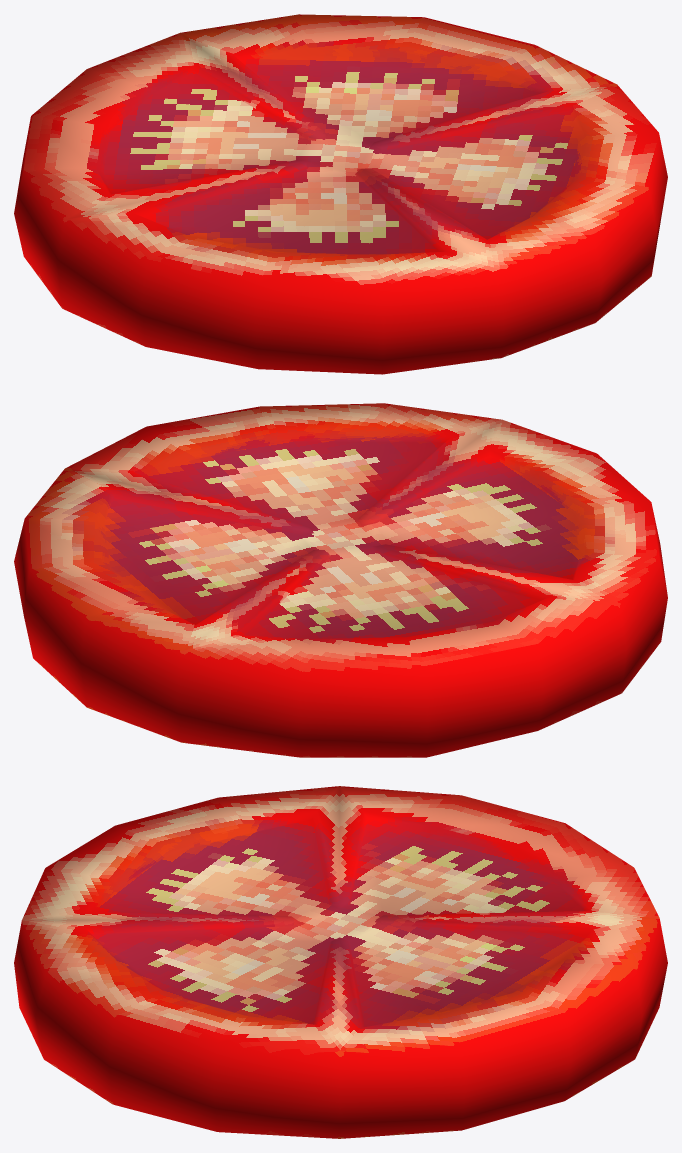
The model's file is Topz-tomato.glb.
The picture shows the model from 3 angles, top to bottom: view 1: azimuth 30°, elevation 25°; view 2: azimuth 150°, elevation 25°; view 3: azimuth 270°, elevation 25°; orthographic projection.
Visible parts, largest first — view 1: Cylinder; view 2: Cylinder; view 3: Cylinder.
Part boxes in pixels (x1=…): Cylinder: x1=14, y1=14, x2=667, y2=374; Cylinder: x1=14, y1=403, x2=667, y2=757; Cylinder: x1=14, y1=786, x2=667, y2=1138.
Size of what is drawn, in the model's own units: 1.52 by 0.2359 by 1.52.
Materials: 1 (1 with a texture image).
